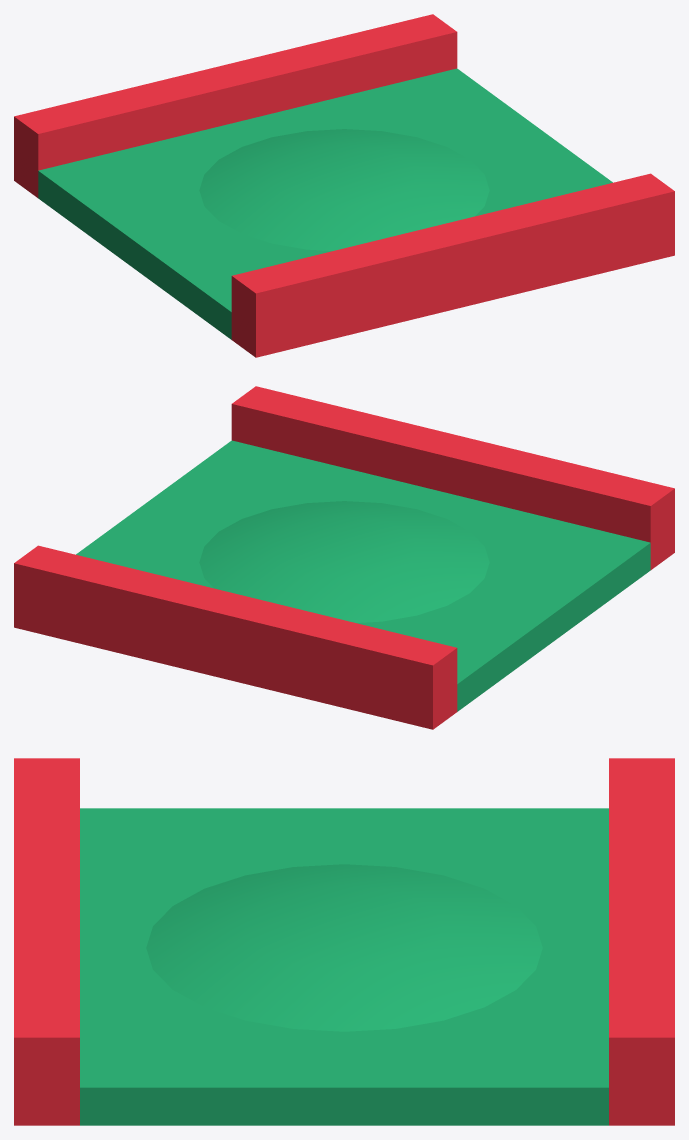
File: bumpWalls.obj
The picture shows the model from 3 angles, top to bottom: view 1: azimuth 30°, elevation 25°; view 2: azimuth 150°, elevation 25°; view 3: azimuth 270°, elevation 25°; orthographic projection. The views are drawn at different scales.
Parts seen in each view (by area): view 1: bumpWalls; view 2: bumpWalls; view 3: bumpWalls.
Boxes of the visible parts, x1,y1,x2,y2 form: bumpWalls: [14, 14, 674, 357]; bumpWalls: [14, 386, 674, 729]; bumpWalls: [14, 758, 674, 1125].
Bounding box in the file's own units: 0.9999 × 0.1467 × 0.9999.
